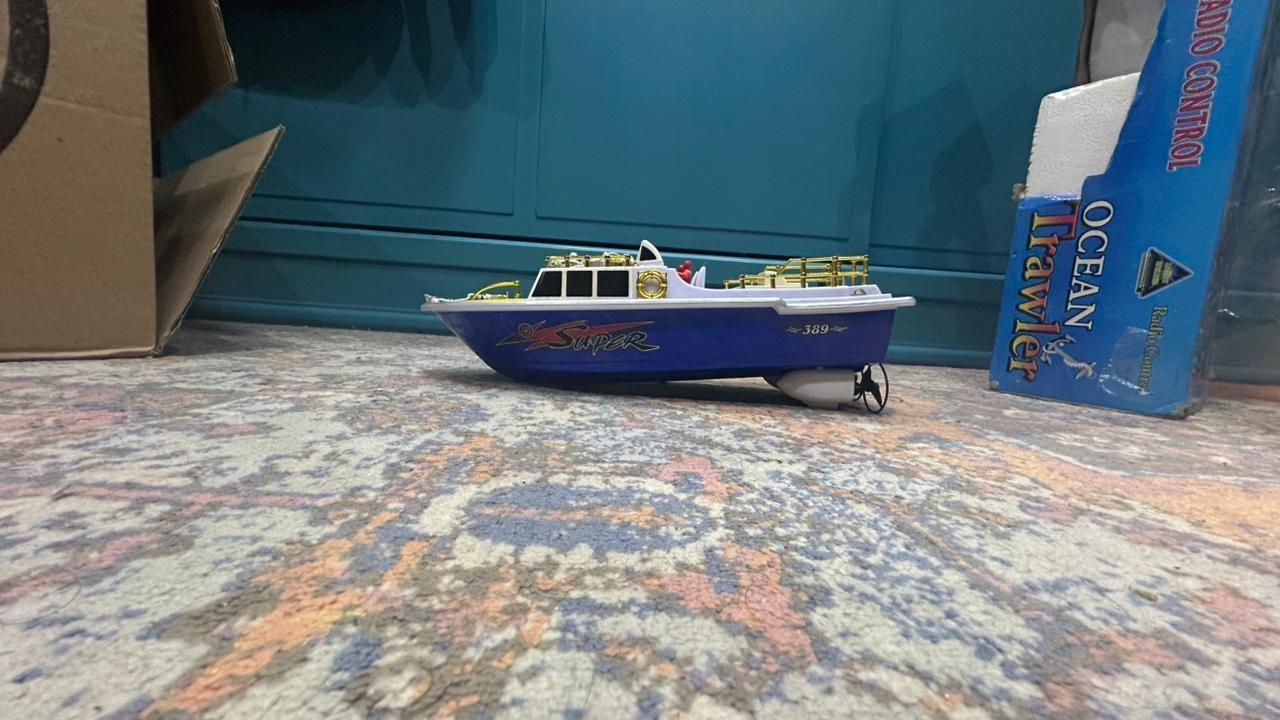Boat: (412, 240, 915, 420)
